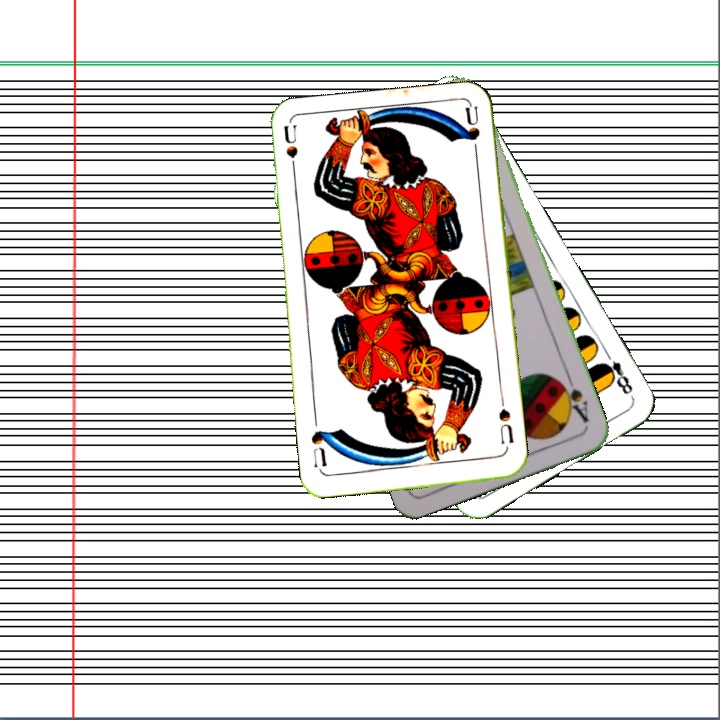E8: (596, 347, 636, 397)
SA: (555, 372, 591, 426)
SU: (280, 123, 301, 182), (494, 404, 516, 454)
